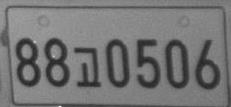0: (104, 38, 130, 88), (164, 38, 189, 89)
5: (136, 38, 161, 88)
6: (194, 39, 221, 90)
8: (14, 36, 41, 87), (43, 37, 70, 87)
고: (73, 46, 102, 87)
